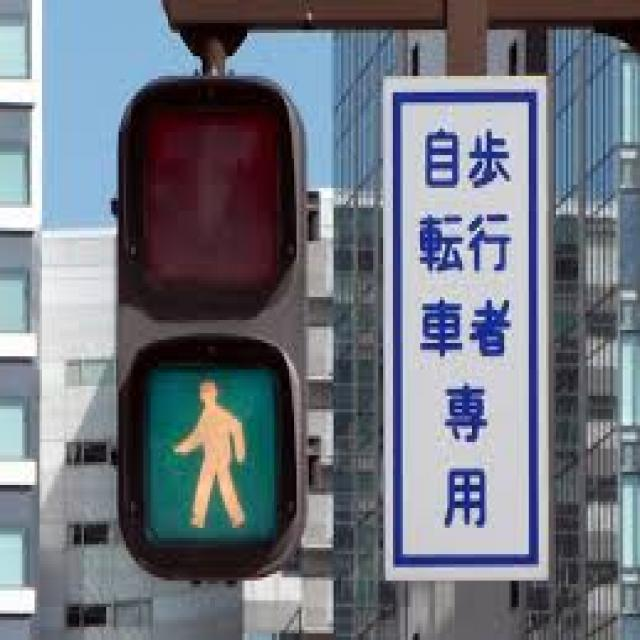trafficlight: (104, 76, 311, 571)
